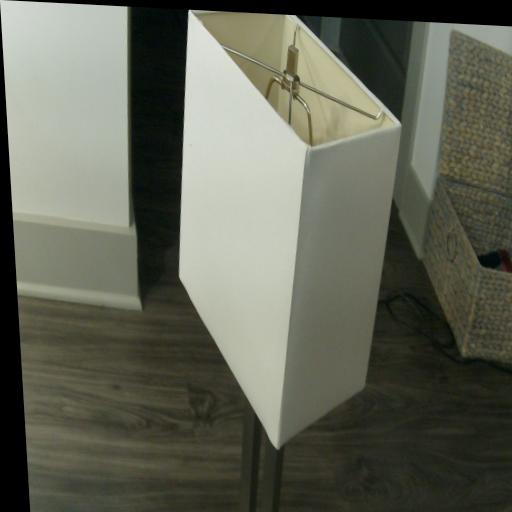lamp: (163, 8, 425, 512)
